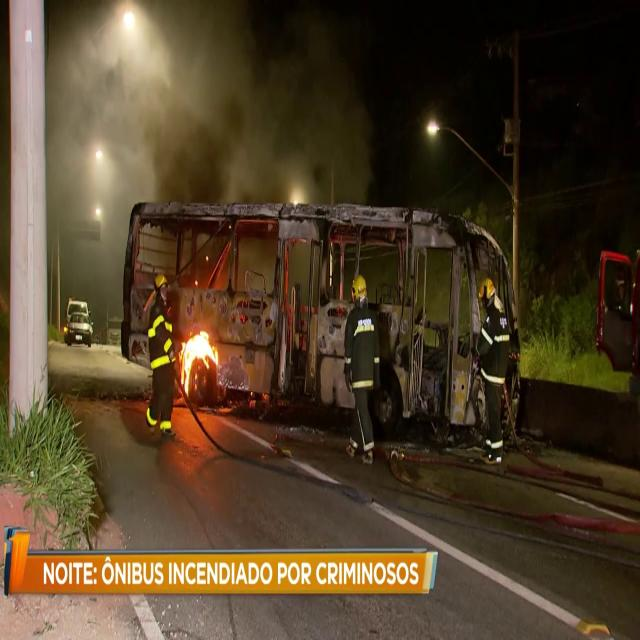fire: (182, 329, 218, 374)
smoke: (62, 12, 340, 190)
